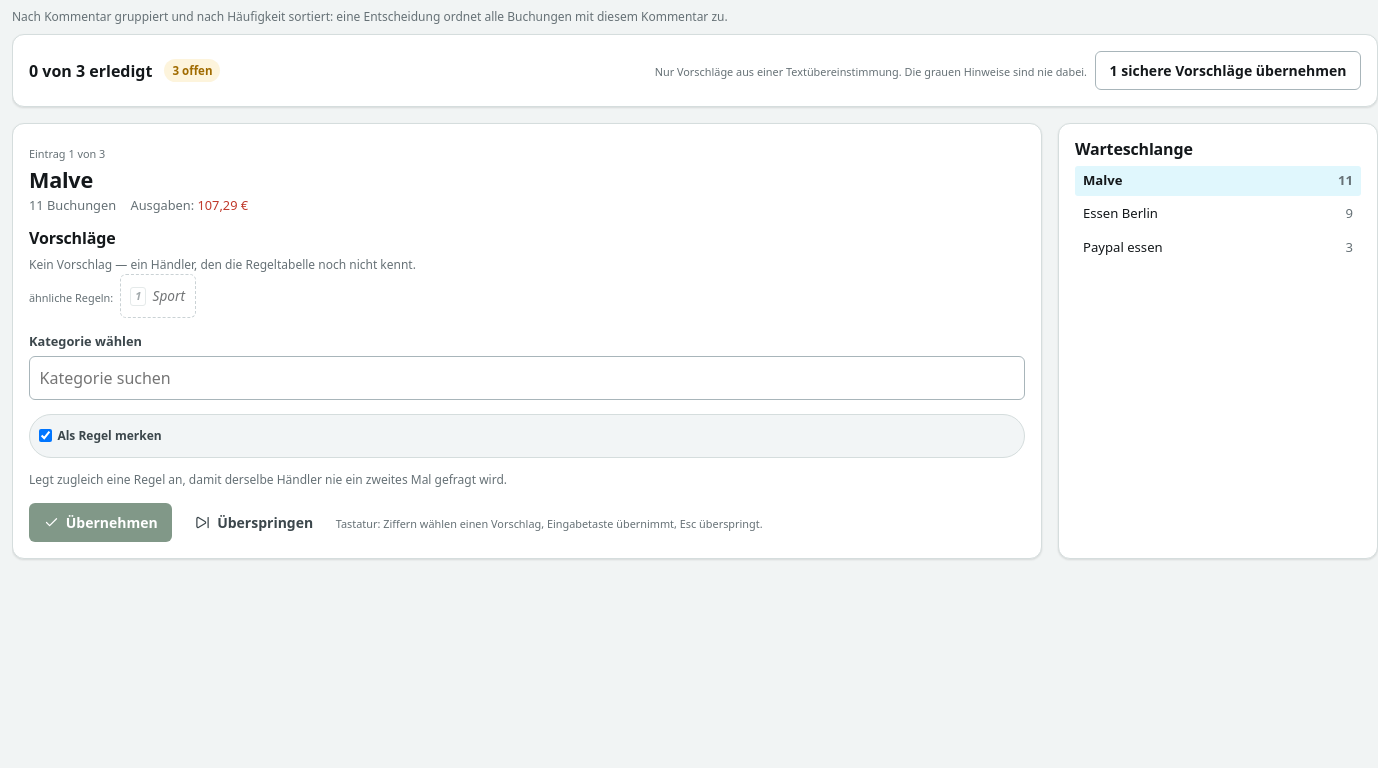
Scenario: the import review queue › sends createRule: true when "als Regel merken" is left checked, and advances
This screenshot has width=1378, height=768.
Click the button "1 Sport" at (158, 296), box [120, 274, 196, 318]
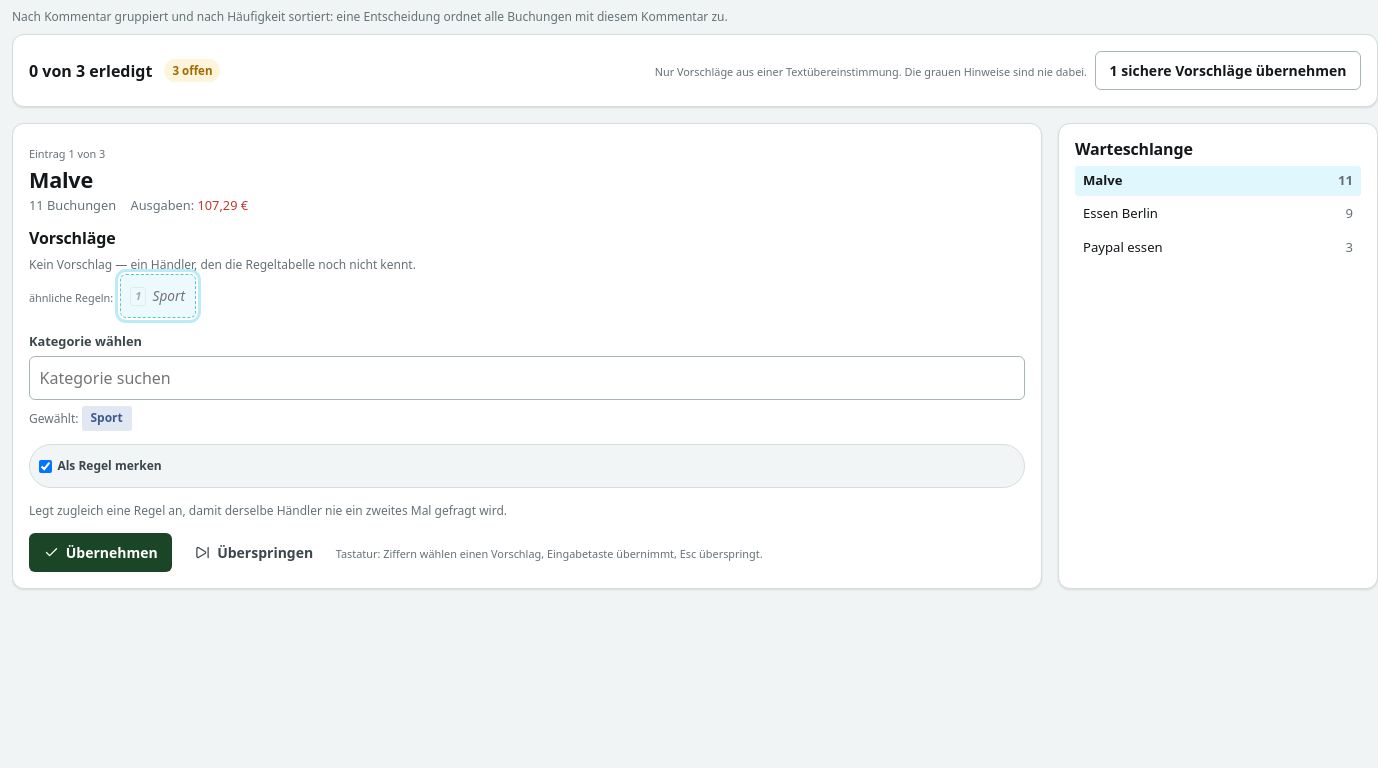
Expected: the checkbox labelled "Als Regel merken" is checked, [39, 460, 52, 473]
Click the button "Übernehmen" at (101, 553), box [29, 533, 172, 572]
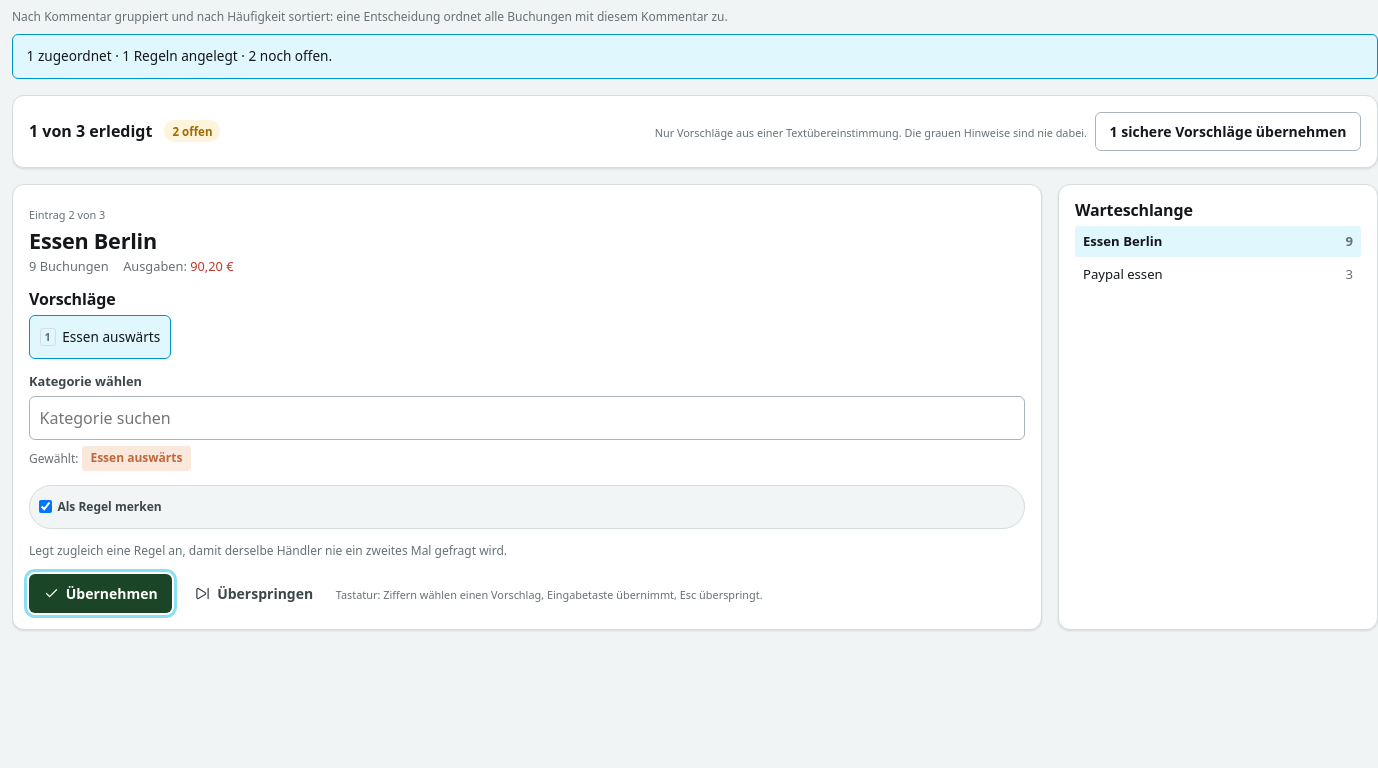
Expected: the text "9 Buchungen" is shown, [29, 257, 109, 276]
